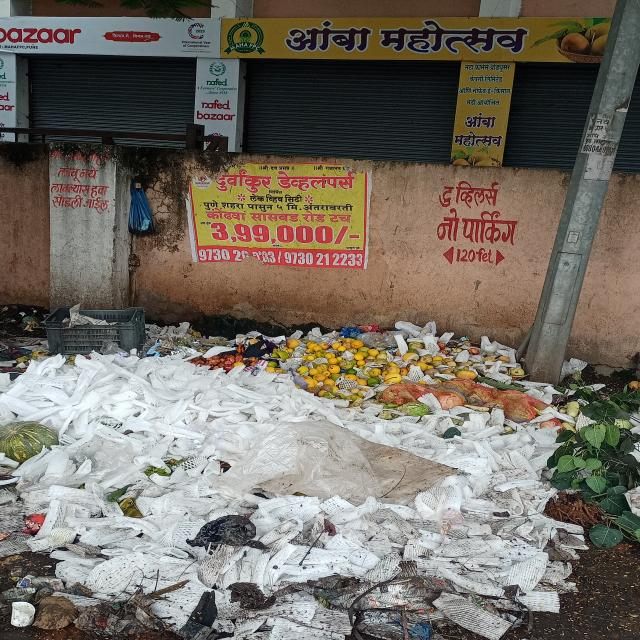garbage: (6, 324, 640, 640)
